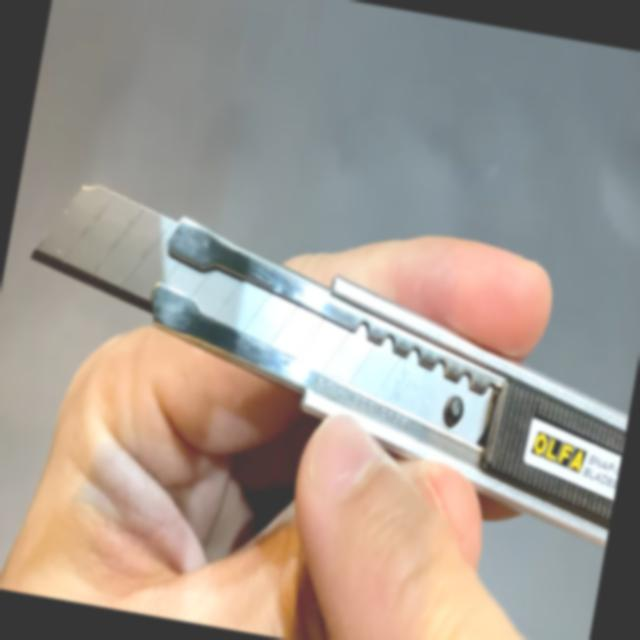cutter: (11, 125, 634, 564)
